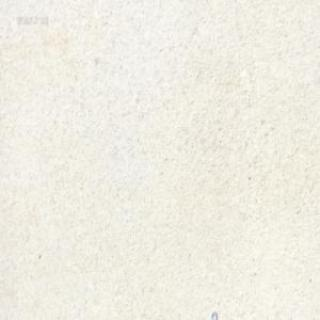Washertrack_idkeyframe: (210, 309, 217, 319)
